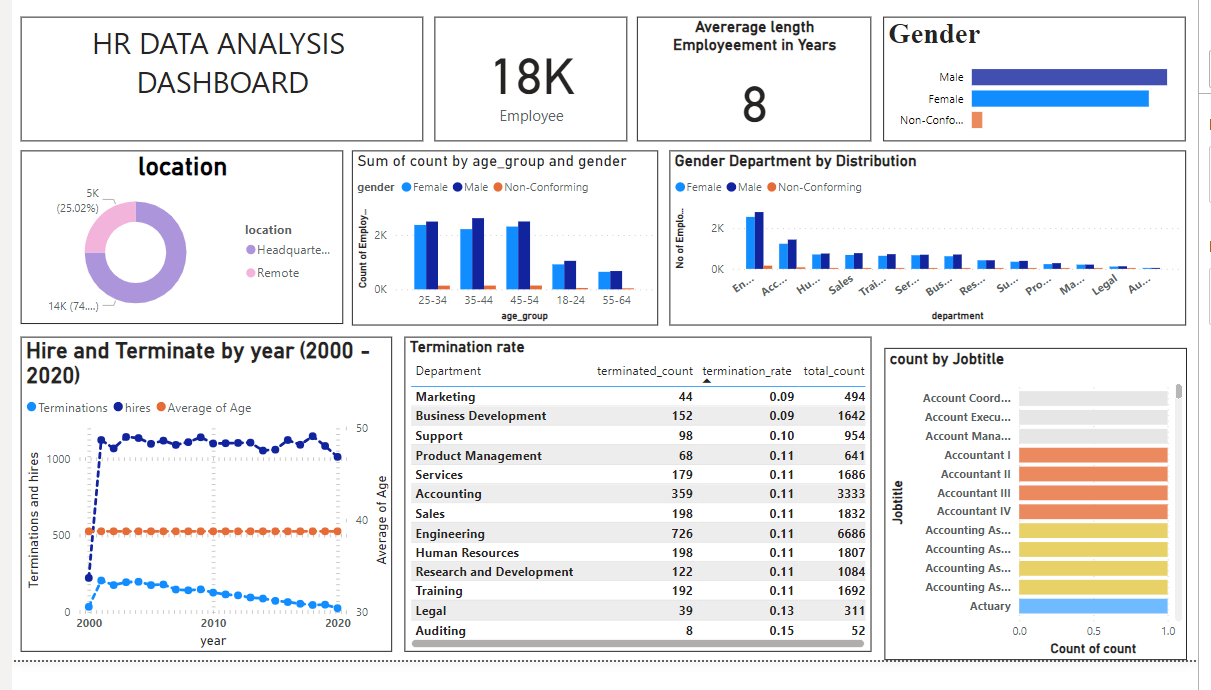

This screenshot's page, from the dashboard's own definition file:
{"tool":"powerbi","page":{"name":"Page 1","canvas":[1280,720],"ordinal":0},"visuals":[{"type":"textbox","box":[9.7,25,434.3,134.6],"z":0},{"type":"clusteredBarChart","title":"Gender","fields":{"Category":["gender.gender"],"Y":["Sum(gender.count)"]},"box":[940.7,25,326,134.6],"z":1000},{"type":"donutChart","title":"location","fields":{"Category":["Location.location"],"Y":["Sum(Location.count)"]},"box":[9.7,170.6,348.2,187.3],"z":2000},{"type":"lineChart","title":"Hire and Terminate  by year (2000 - 2020)","fields":{"Category":["Employee_change.year"],"Y":["Sum(Employee_change.Terminations)","Sum(Employee_change.hires)"],"Y2":["Avg(age rate.Age)"]},"box":[9.7,370.4,401,339.9],"z":3000},{"type":"card","fields":{"Values":["Sum(gender.count)"]},"box":[456.5,25,208.1,134.6],"z":4000},{"type":"tableEx","title":"Termination rate","fields":{"Values":["turnover.Department","turnover.terminated_count","turnover.termination_rate","turnover.total_count"]},"box":[423.2,370.4,503.6,339.9],"z":5000},{"type":"clusteredColumnChart","title":"Gender Department by Distribution","fields":{"Category":["Gender_depts.department"],"Y":["Sum(Gender_depts.count)"],"Series":["Gender_depts.gender"]},"box":[710.3,170.6,557.7,188.7],"z":6000},{"type":"card","title":"Avererage length Employeement in Years","fields":{"Values":["Sum(AVG_length_employment.avg_length_employment)"]},"box":[674.3,25,252.5,134.6],"z":7000},{"type":"clusteredColumnChart","fields":{"Category":["Age_gender.age_group"],"Y":["Sum(Age_gender.count)"],"Series":["Age_gender.gender"]},"box":[367.7,170.6,330.2,188.7],"z":8000},{"type":"clusteredBarChart","title":"count by Jobtitle","fields":{"Category":["Jobtitle.jobtitle"],"Y":["CountNonNull(Jobtitle.count)"]},"box":[942,382.9,326,337.1],"z":9000}]}

Visuals, with their boxes in screenshot pixels (x1, y1, x2, y2), scaled from the page's 1280x720 canvas onto the 1211x690 screenshot:
textbox: rect(9, 24, 420, 153)
"Gender" clusteredBarChart: rect(890, 24, 1198, 153)
"location" donutChart: rect(9, 163, 339, 343)
"Hire and Terminate  by year (2000 - 2020)" lineChart: rect(9, 355, 389, 681)
card - Sum(gender.count): rect(432, 24, 629, 153)
"Termination rate" tableEx: rect(400, 355, 877, 681)
"Gender Department by Distribution" clusteredColumnChart: rect(672, 163, 1200, 344)
"Avererage length Employeement in Years" card: rect(638, 24, 877, 153)
clusteredColumnChart - Age_gender.age_group x Sum(Age_gender.count): rect(348, 163, 660, 344)
"count by Jobtitle" clusteredBarChart: rect(891, 367, 1200, 689)
